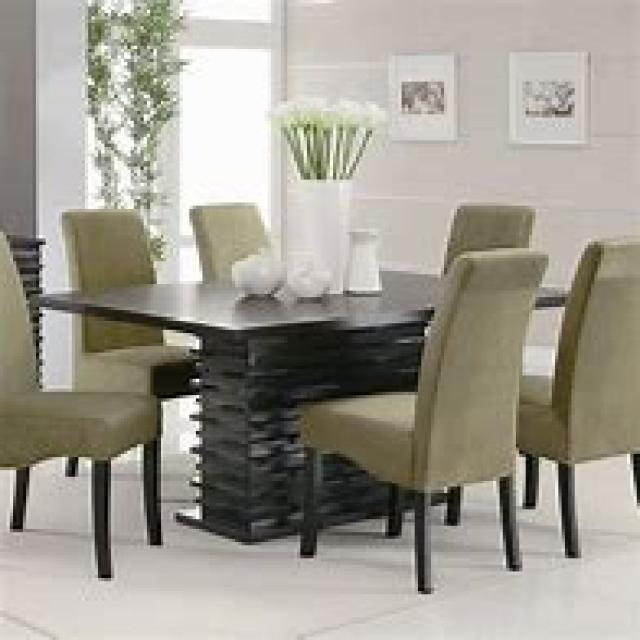chair: (297, 245, 549, 591), (0, 219, 160, 578)
table: (36, 264, 568, 546)
